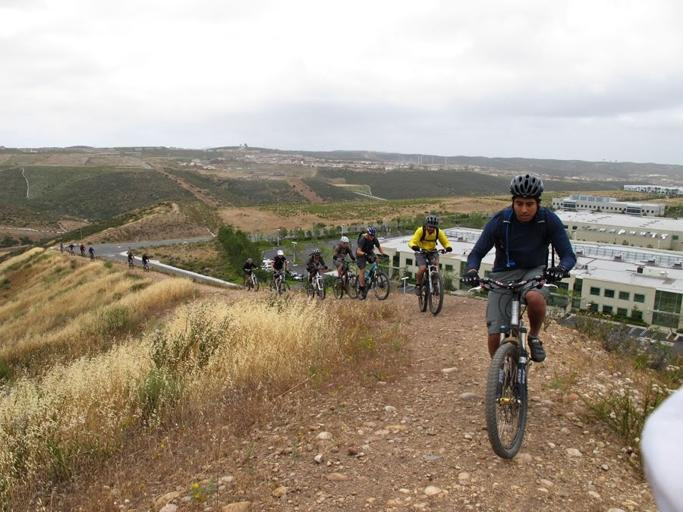non-vehicle: (454, 268, 570, 460), (413, 245, 452, 313), (353, 252, 392, 300), (329, 255, 362, 298), (304, 265, 326, 300), (268, 272, 290, 299), (241, 265, 260, 292)
